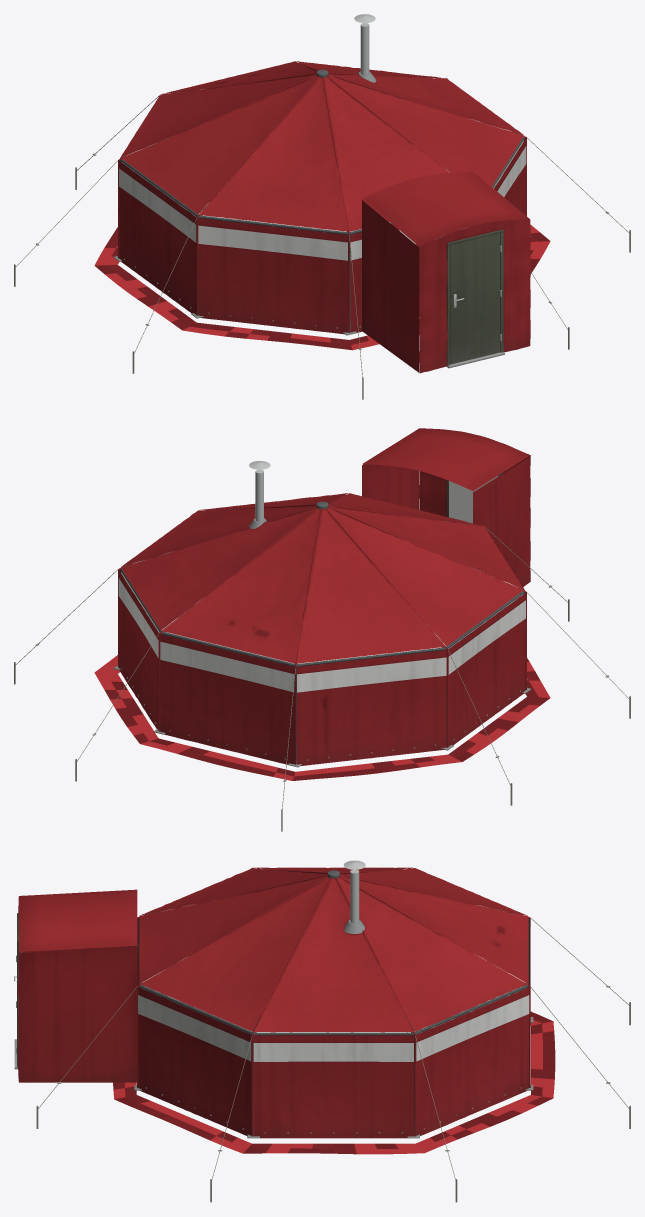
The model's file is polarchief-ar.glb.
3 views of the same model, one above another, from view 1: azimuth 30°, elevation 25°; view 2: azimuth 150°, elevation 25°; view 3: azimuth 270°, elevation 25° (orthographic). The views are drawn at different scales.
Parts seen in each view (by area): view 1: POLARCHIEF_shelter; view 2: POLARCHIEF_shelter, POLARCHIEF_interior; view 3: POLARCHIEF_shelter, POLARCHIEF_interior.
Part boxes in pixels (box(x1,y1,x2,y2)): POLARCHIEF_shelter: box(14, 14, 630, 399); POLARCHIEF_shelter: box(14, 428, 630, 831); POLARCHIEF_interior: box(121, 521, 523, 663); POLARCHIEF_shelter: box(14, 860, 630, 1202); POLARCHIEF_interior: box(141, 904, 525, 1041).
Size of the model in its own units: 8.52 by 3.81 by 8.85.
Materials: 13 (6 with a texture image).
